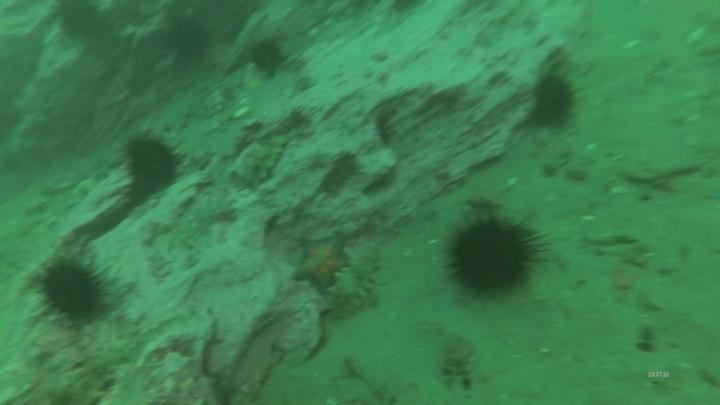echinus: (446, 217, 542, 299), (42, 261, 106, 324), (122, 133, 184, 196), (531, 71, 580, 131), (165, 12, 212, 64), (56, 2, 103, 42), (250, 34, 281, 77)
holothurian: (327, 236, 385, 322), (245, 133, 290, 186)
starfish: (285, 227, 356, 293)
